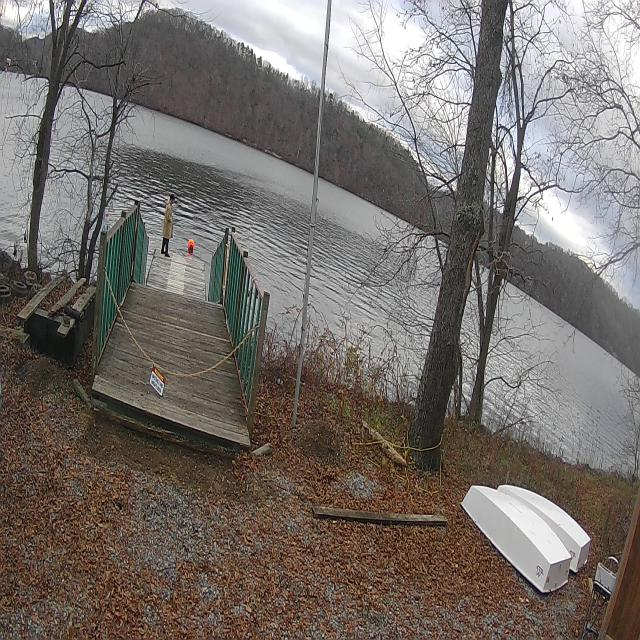Buoy: (188, 237, 195, 252)
